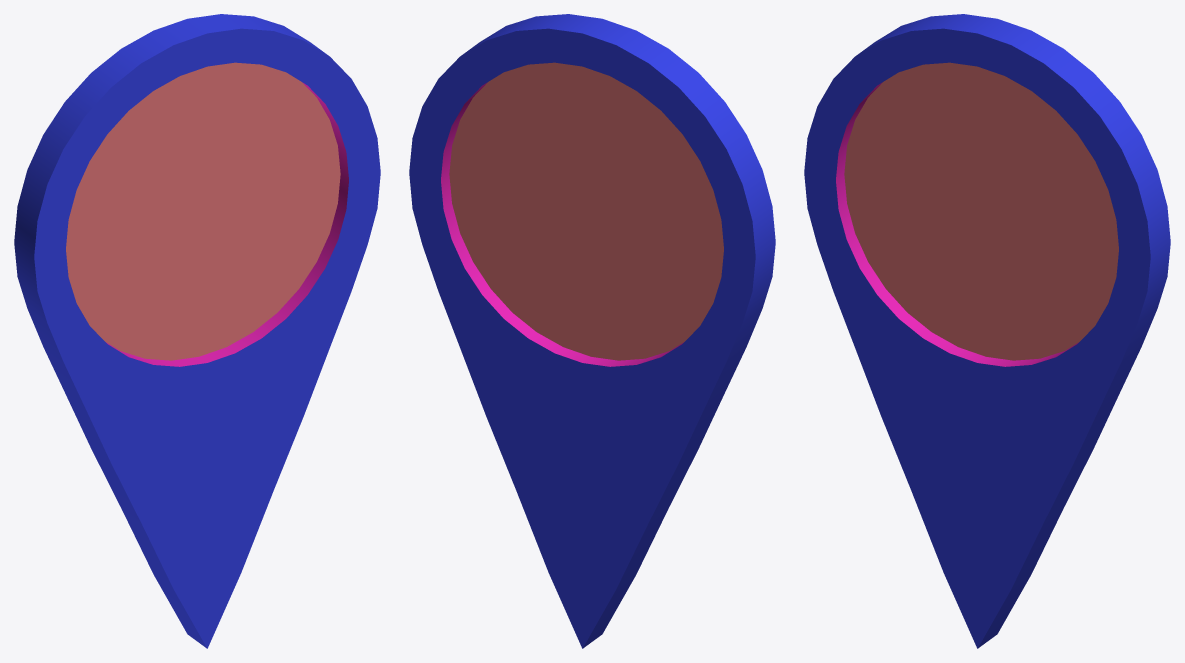
File: Sign_01.fbx
3 renders of one model, left to right at view 1: azimuth 30°, elevation 25°; view 2: azimuth 150°, elevation 25°; view 3: azimuth 330°, elevation 25°, orthographic.
Parts seen in each view (by area): view 1: Cylinder; view 2: Cylinder; view 3: Cylinder.
Part boxes in pixels (<box>): Cylinder: <box>14,14,380,648</box>; Cylinder: <box>409,14,775,648</box>; Cylinder: <box>804,14,1170,648</box>.
Size of the model in its own units: 200 by 339 by 20.
